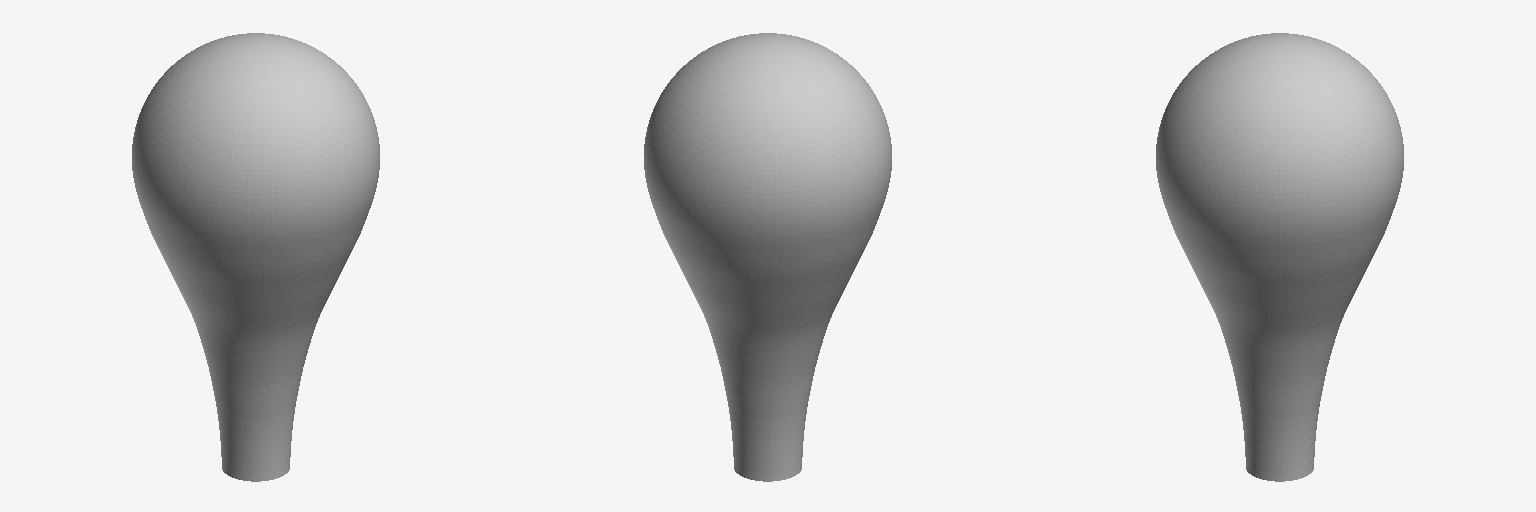
The model's file is drop08.obj.
3 views of the same model, side by side, from view 1: azimuth 30°, elevation 25°; view 2: azimuth 150°, elevation 25°; view 3: azimuth 270°, elevation 25° (orthographic).
Parts seen in each view (by area): view 1: 190708_Ether_100type_drop8; view 2: 190708_Ether_100type_drop8; view 3: 190708_Ether_100type_drop8.
Part boxes in pixels (x1,y1,x2,y2): 190708_Ether_100type_drop8: (132,33,379,481); 190708_Ether_100type_drop8: (644,33,891,481); 190708_Ether_100type_drop8: (1156,33,1403,481).
Size of the model in its own units: 0.3634 by 0.6817 by 0.3634.